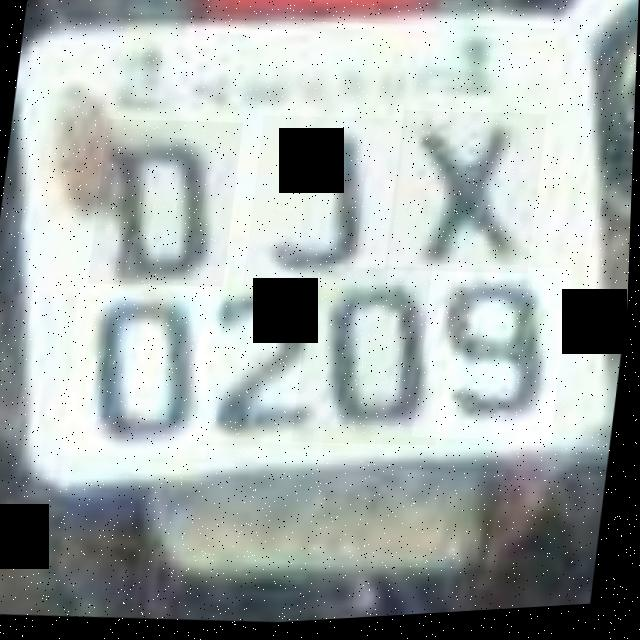0: (62, 257, 231, 468), (294, 263, 459, 458)
2: (173, 261, 347, 466)
9: (415, 263, 574, 455)
J: (244, 111, 408, 304)
O: (89, 114, 244, 296)
X: (386, 109, 549, 288)
